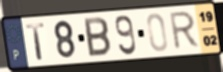0: (146, 12, 170, 54)
8: (53, 19, 78, 61)
9: (114, 14, 137, 56)
B: (82, 16, 113, 59)
R: (169, 9, 202, 52)
T: (24, 21, 47, 62)
